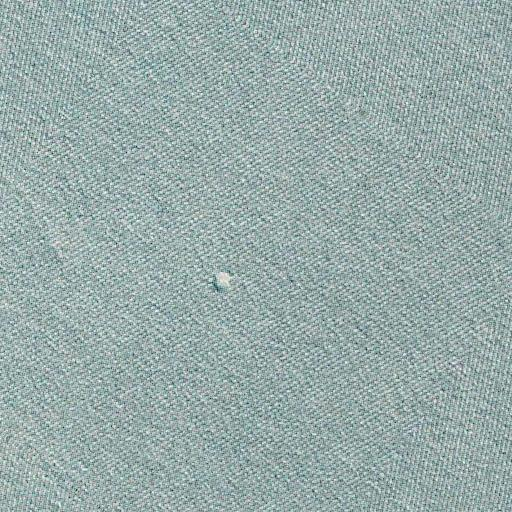knot: (199, 258, 252, 297)
